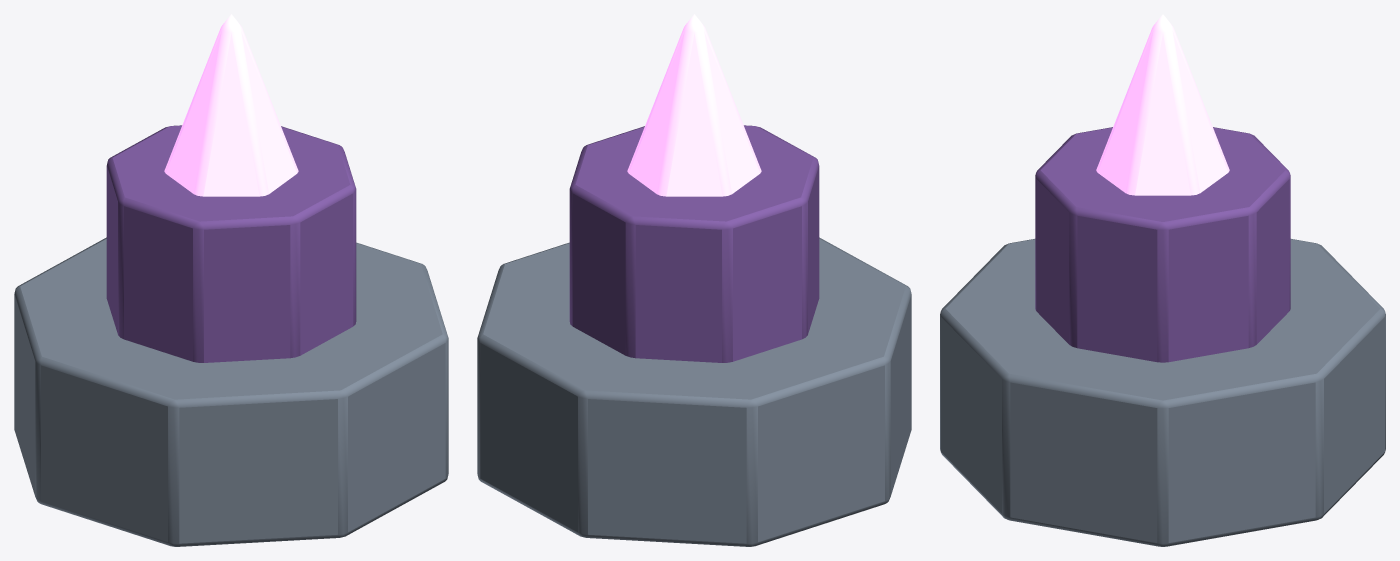
Rendered from magetower.glb.
3 renders of one model, left to right at view 1: azimuth 30°, elevation 25°; view 2: azimuth 150°, elevation 25°; view 3: azimuth 270°, elevation 25°, orthographic.
Parts seen in each view (by area): view 1: Base, ArcaneBody, CrystalSpire; view 2: Base, ArcaneBody, CrystalSpire; view 3: Base, ArcaneBody, CrystalSpire.
Part boxes in pixels (left/top/right/bottom): Base: left=14, top=237, right=448, bottom=546; ArcaneBody: left=106, top=125, right=356, bottom=362; CrystalSpire: left=164, top=14, right=298, bottom=196; Base: left=477, top=237, right=911, bottom=546; ArcaneBody: left=569, top=125, right=819, bottom=362; CrystalSpire: left=627, top=14, right=761, bottom=196; Base: left=940, top=239, right=1385, bottom=546; ArcaneBody: left=1035, top=127, right=1290, bottom=362; CrystalSpire: left=1096, top=14, right=1229, bottom=195.
Size of the model in its own units: 2.48 by 2.71 by 2.48.
